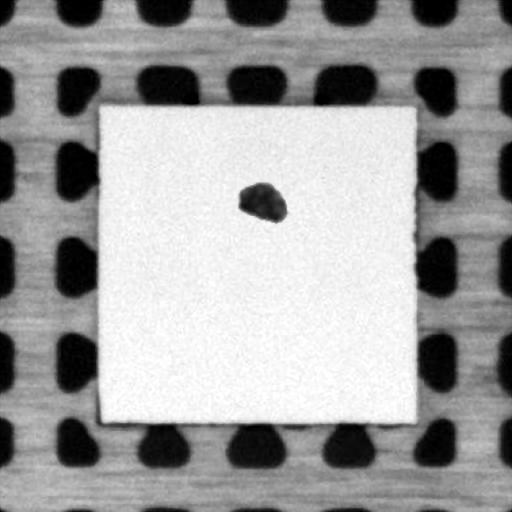DIE_INK: (238, 181, 288, 224)
